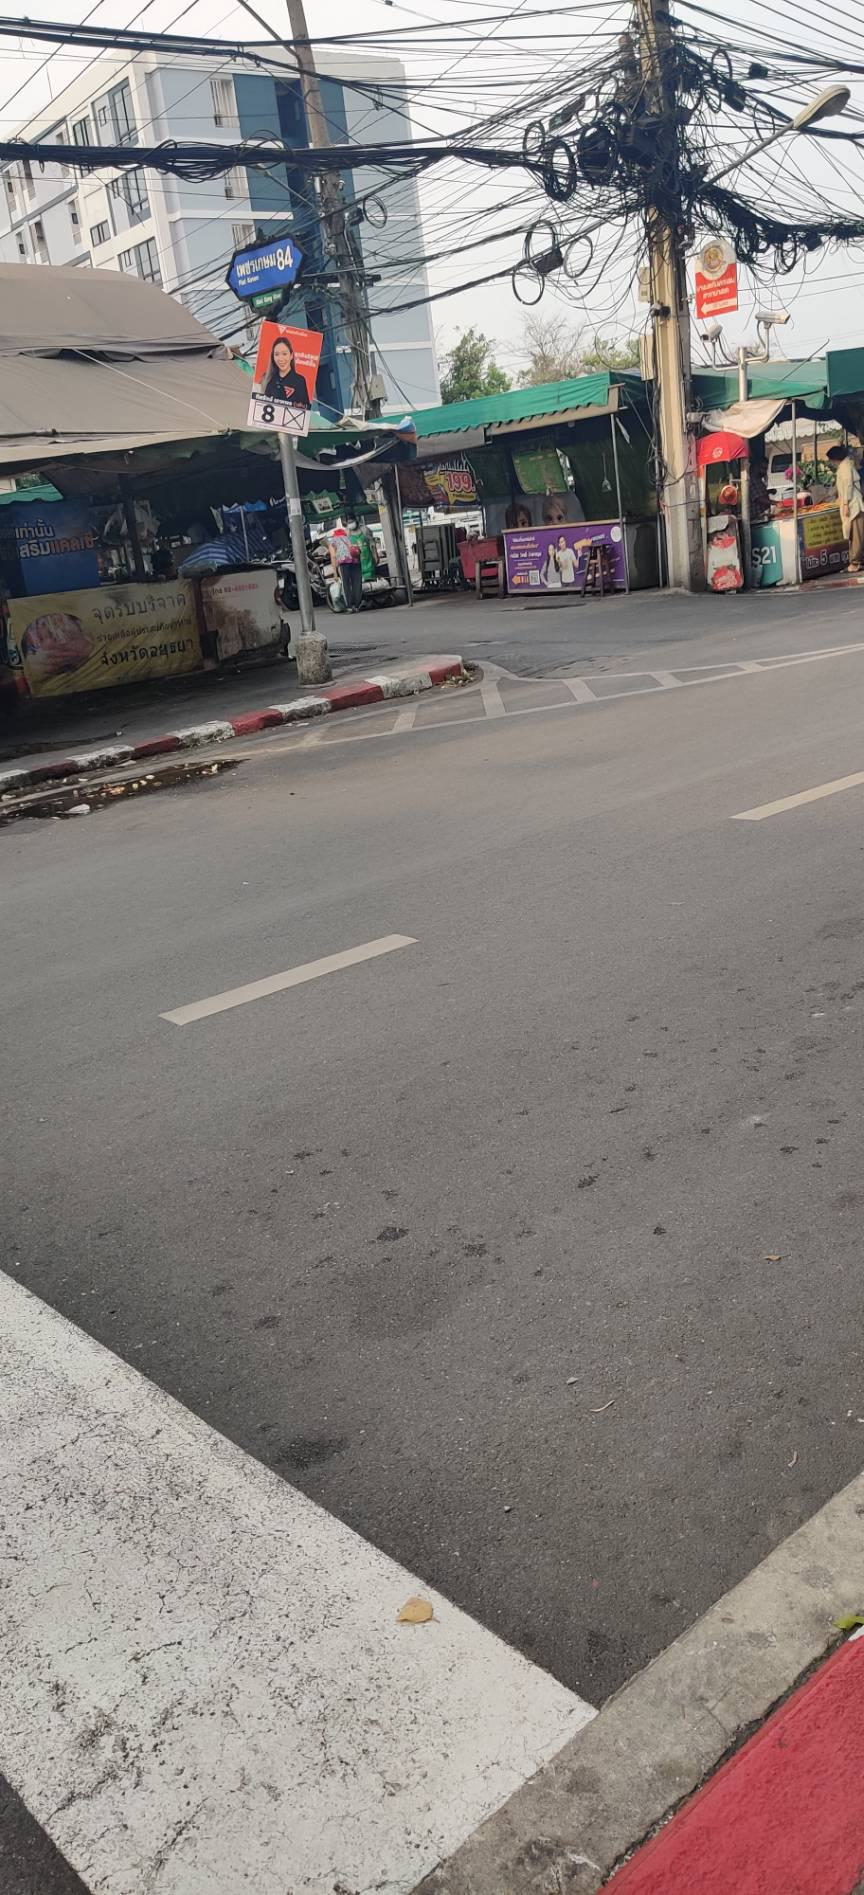Banner: (231, 326, 324, 437)
